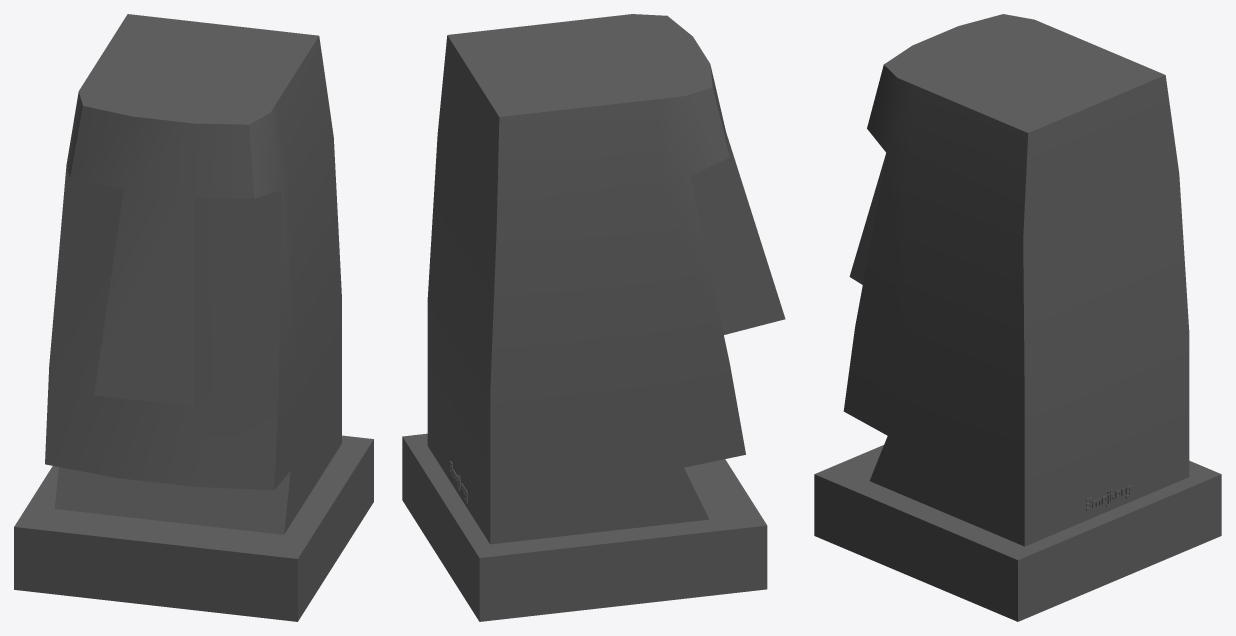
Rendered from moai.fbx.
3 views of the same model, side by side, from view 1: azimuth 30°, elevation 25°; view 2: azimuth 150°, elevation 25°; view 3: azimuth 270°, elevation 25° (orthographic). The views are drawn at different scales.
Visible parts, largest first — view 1: Cube.1022; view 2: Cube.1022; view 3: Cube.1022.
Boxes of the visible parts, box(x1,y1,x2,y2) form: Cube.1022: box(14, 14, 373, 621); Cube.1022: box(402, 14, 785, 621); Cube.1022: box(814, 14, 1221, 621).
Bounding box in the file's own units: 170 × 214 × 170.
Materials: 1 (1 with a texture image).
